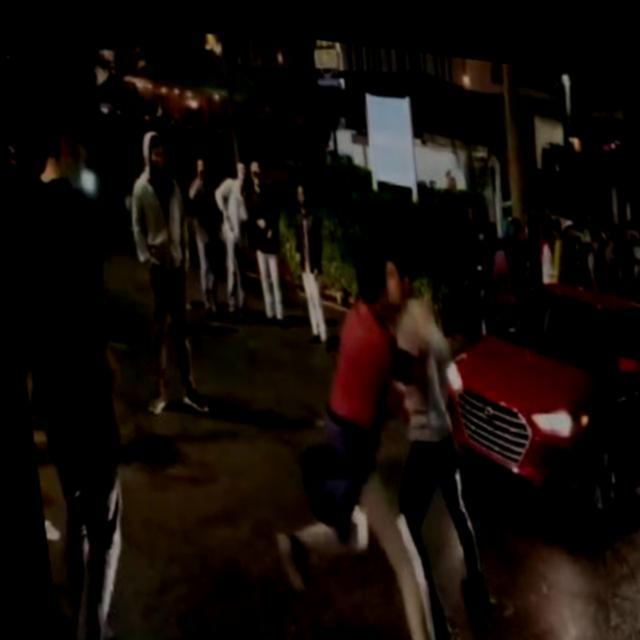fight: (231, 217, 496, 640)
